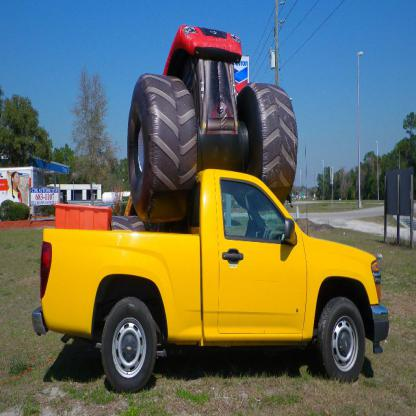Truck: (30, 169, 390, 396)
